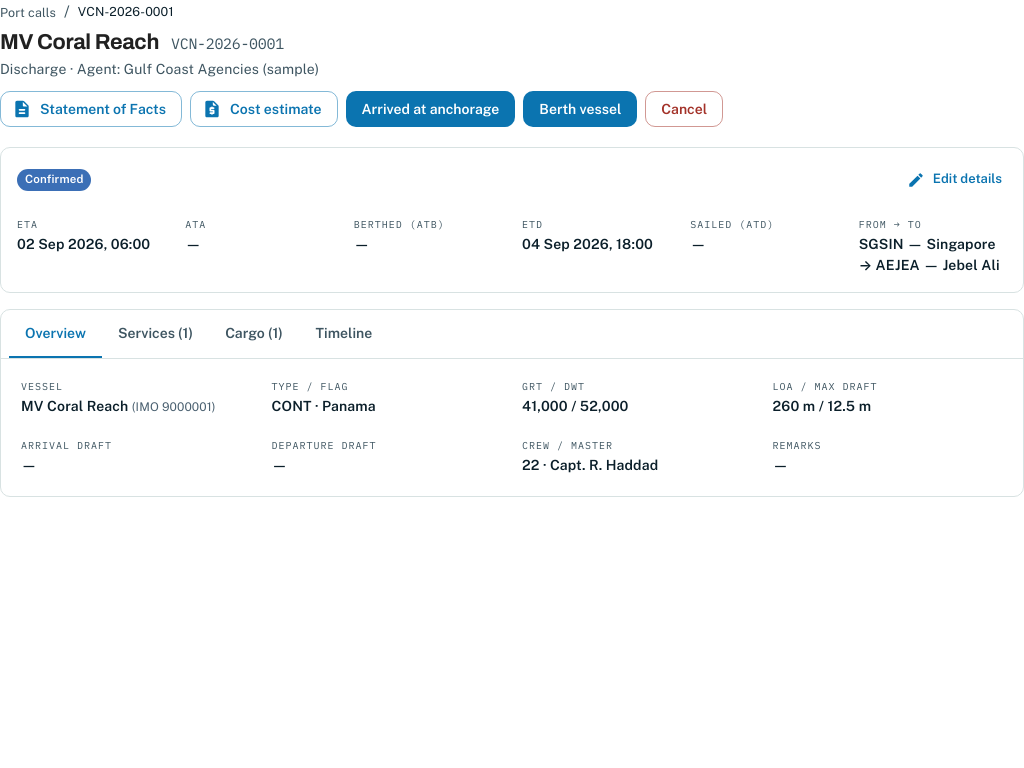
it: Vessel-call pages › opens the cost estimate with the jurisdiction tax head and currency
What coordinates should you click on to do the following:
click the button "Cost estimate"
I would click on:
 (264, 109)
Its box is [190, 91, 338, 127].
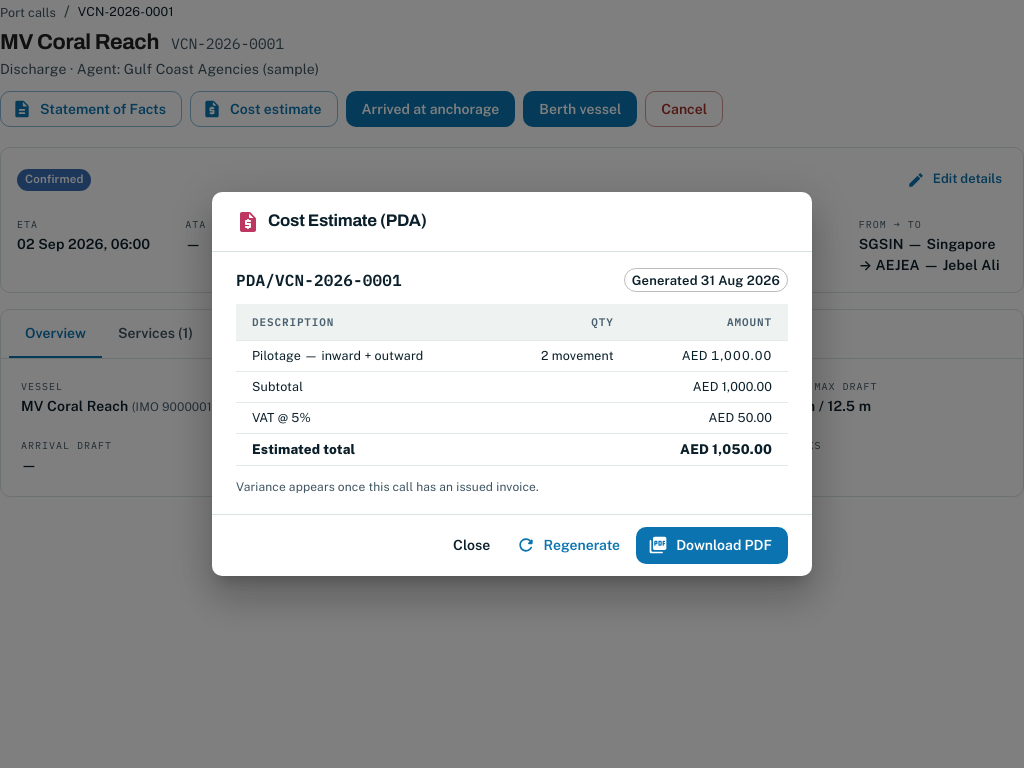
Check: the text "PDA/VCN-2026-0001" is shown, box [236, 268, 402, 292]
Check: the text "VAT @ 5%" is shown, box [236, 402, 630, 433]
Check: the text "AED 1,050.00" is shown, box [630, 433, 788, 466]
